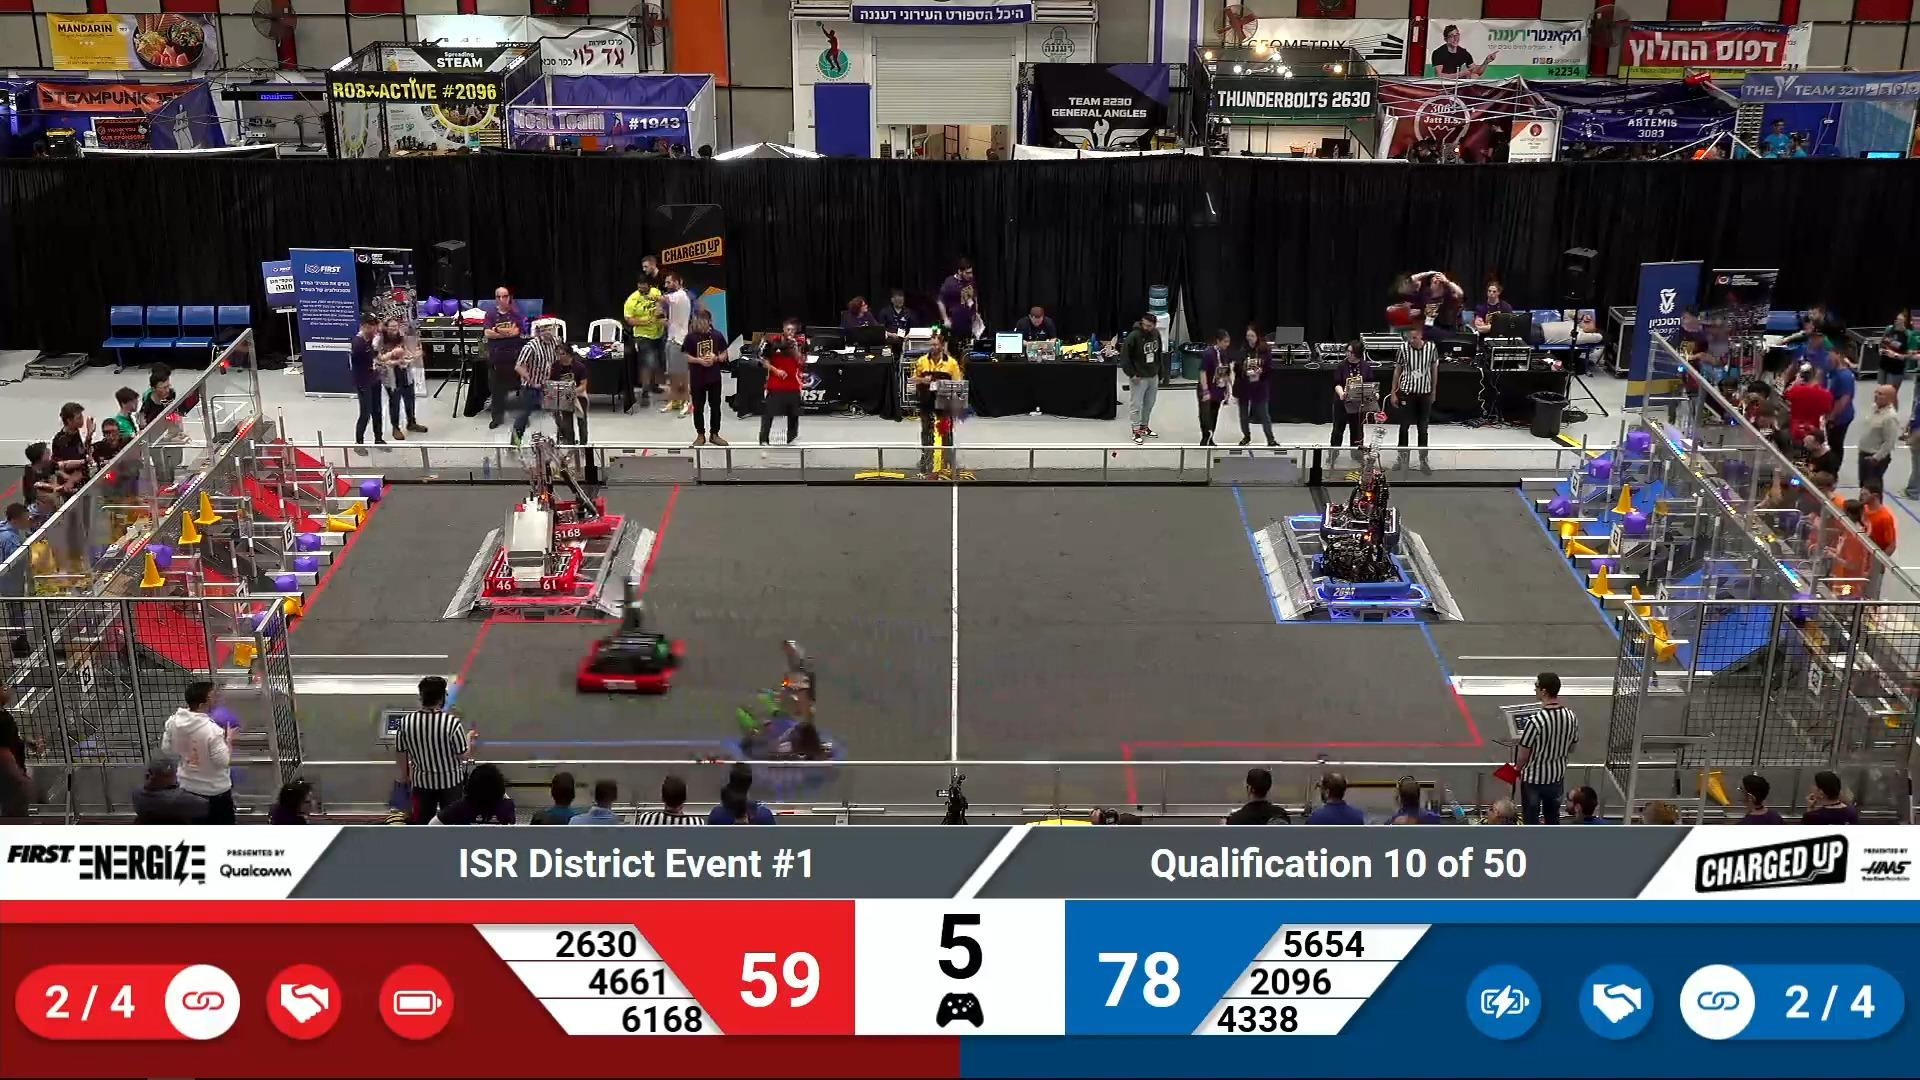robot: (713, 632, 851, 791), (575, 575, 692, 698), (510, 431, 613, 546), (483, 521, 587, 596), (1317, 458, 1404, 547), (1302, 533, 1414, 600)
